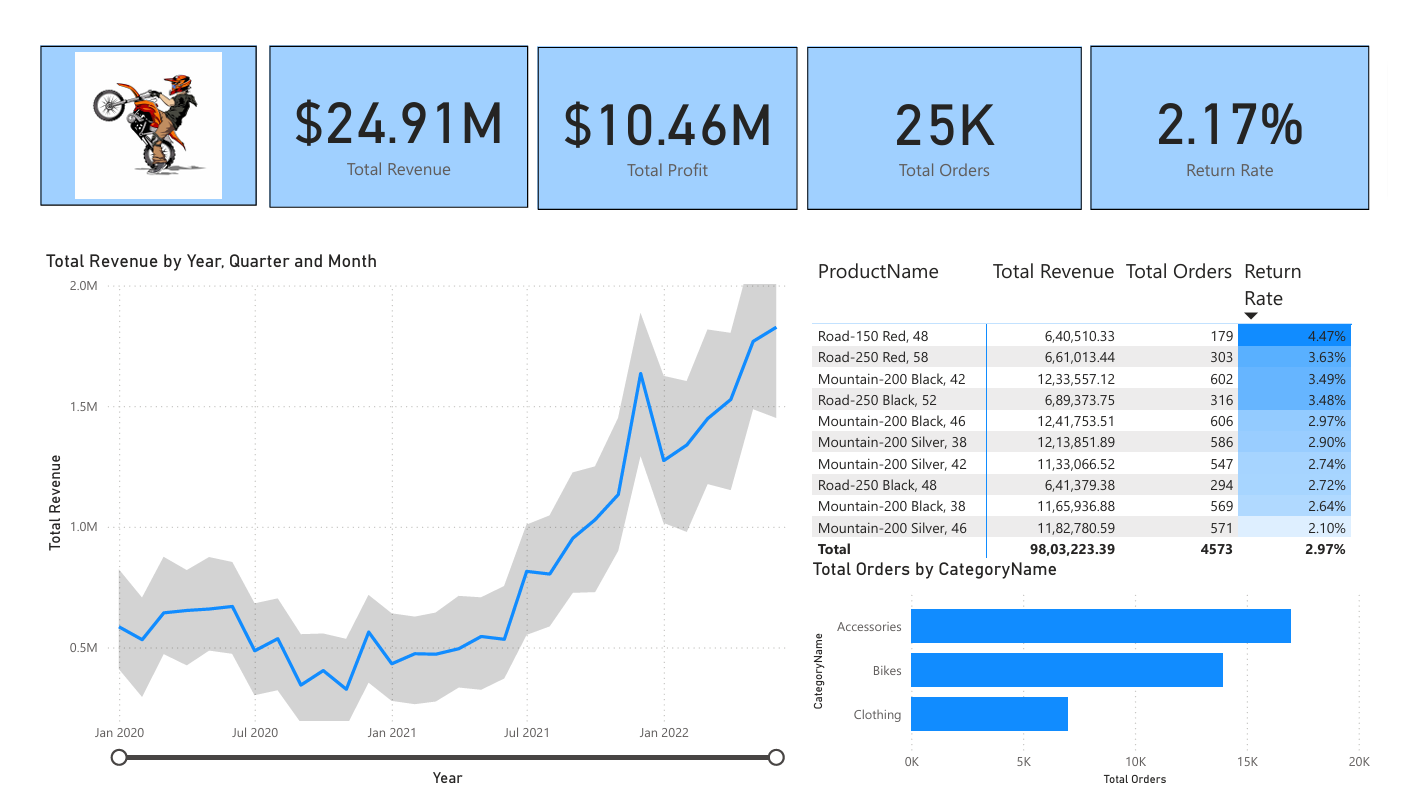

The page's visual inventory and layout, read from the dashboard file:
{"tool":"powerbi","page":{"name":"Page 2","canvas":[1280,720],"ordinal":1},"visuals":[{"type":"card","fields":{"Values":["MEASURE TABLE.Total Revenue"]},"box":[229.9,19.6,243.3,152.9],"z":0},{"type":"card","fields":{"Values":["MEASURE TABLE.Total Profit"]},"box":[481.8,20.8,244.6,152.9],"z":1000},{"type":"card","fields":{"Values":["MEASURE TABLE.Total Orders"]},"box":[734.9,20.8,258,152.9],"z":2000},{"type":"card","fields":{"Values":["MEASURE TABLE.Return Rate"]},"box":[1001.5,19.6,261.7,154.1],"z":3000},{"type":"lineChart","fields":{"Category":["Calendar Lookup.Start of Month.Variation.Date Hierarchy.Year","Calendar Lookup.Start of Month.Variation.Date Hierarchy.Quarter","Calendar Lookup.Start of Month.Variation.Date Hierarchy.Month","Calendar Lookup.Start of Month.Variation.Date Hierarchy.Day"],"Y":["MEASURE TABLE.Total Revenue"]},"box":[14.7,211.6,720.2,508.7],"z":4000},{"type":"pivotTable","fields":{"Rows":["Product Lookup.ProductName"],"Values":["MEASURE TABLE.Total Revenue","MEASURE TABLE.Total Orders","MEASURE TABLE.Return Rate"]},"box":[734.9,211.6,533.2,300.8],"z":5000},{"type":"clusteredBarChart","fields":{"Category":["Product Categories Lookup.CategoryName"],"Y":["MEASURE TABLE.Total Orders"]},"box":[734.9,501.4,533.2,218.9],"z":6000},{"type":"image","box":[14.7,19.6,203,150.4],"z":7000}]}

Visuals, with their boxes in screenshot pixels (x1, y1, x2, y2), scaled from the page's 1280x720 canvas onto the 1408x812 screenshot:
card - MEASURE TABLE.Total Revenue: pyautogui.locateOnScreen(253, 22, 521, 195)
card - MEASURE TABLE.Total Profit: pyautogui.locateOnScreen(530, 23, 799, 196)
card - MEASURE TABLE.Total Orders: pyautogui.locateOnScreen(808, 23, 1092, 196)
card - MEASURE TABLE.Return Rate: pyautogui.locateOnScreen(1102, 22, 1390, 196)
lineChart - Calendar Lookup.Start of Month.Variation.Date Hierarchy.Year x Calendar Lookup.Start of Month.Variation.Date Hierarchy.Quarter: pyautogui.locateOnScreen(16, 239, 808, 811)
pivotTable - Product Lookup.ProductName x MEASURE TABLE.Total Revenue: pyautogui.locateOnScreen(808, 239, 1395, 578)
clusteredBarChart - Product Categories Lookup.CategoryName x MEASURE TABLE.Total Orders: pyautogui.locateOnScreen(808, 565, 1395, 811)
image: pyautogui.locateOnScreen(16, 22, 239, 192)
